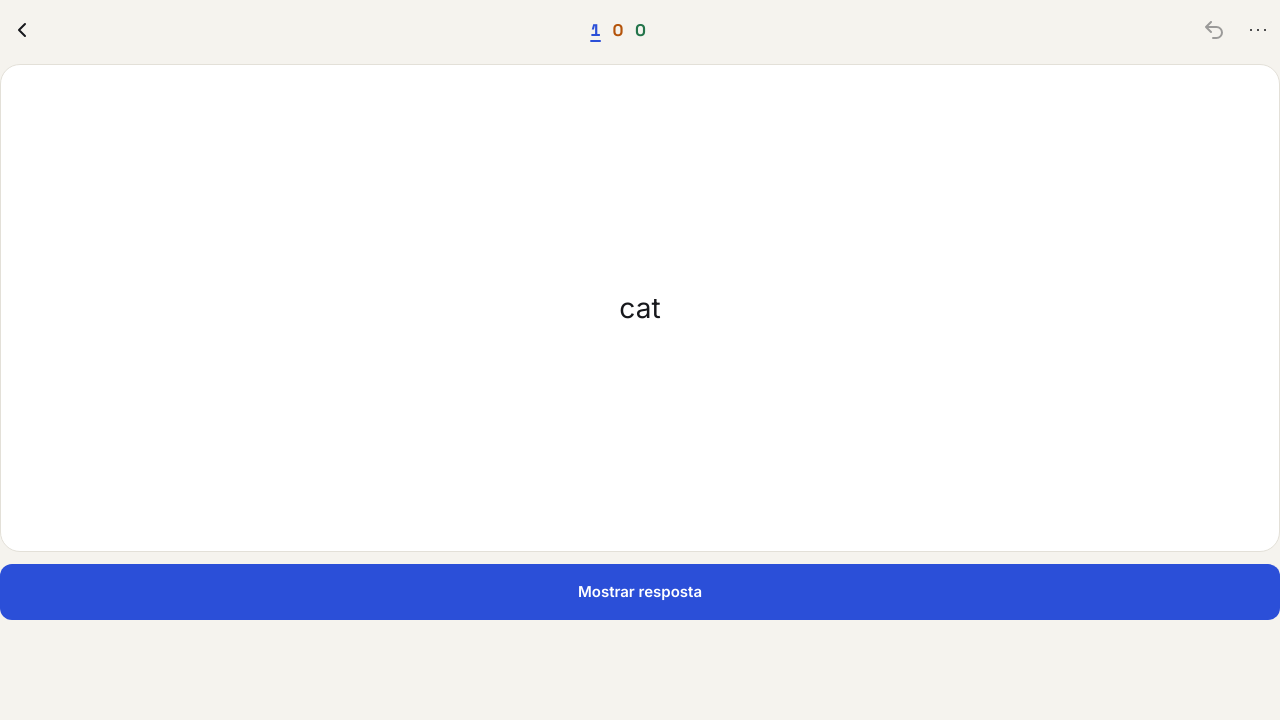
StudyScreen › suspends the card
Click the button named "Mais ações". click: (1258, 30)
box: [1236,8,1279,52]
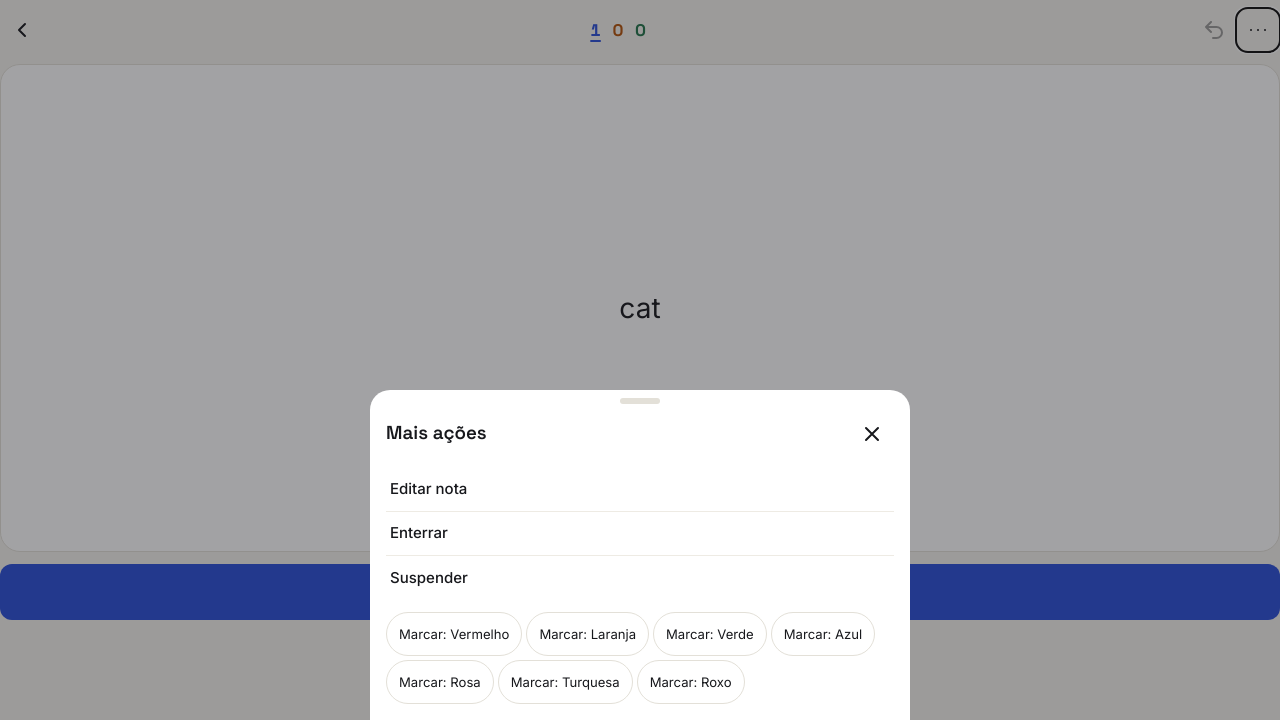
Click the button "Suspender". click: (429, 577)
box: [386,556,894,600]
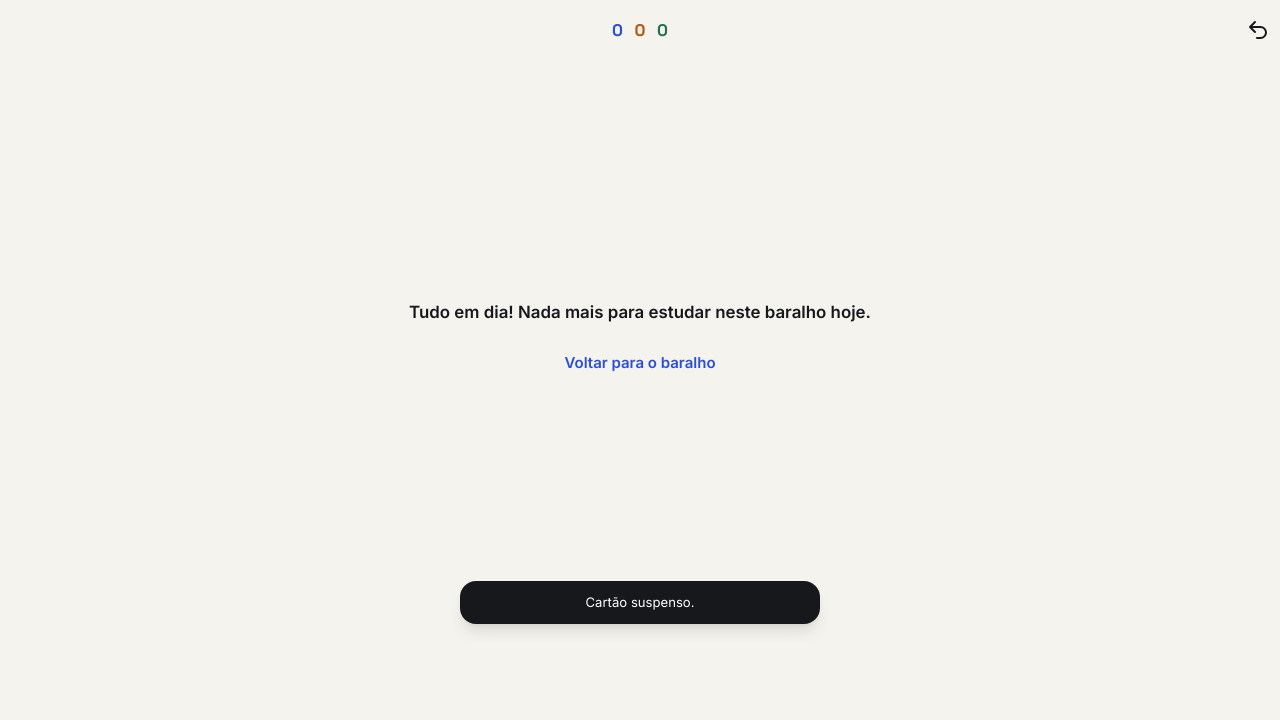
Result: the message reads "Cartão suspenso." at [586,594,694,610]
